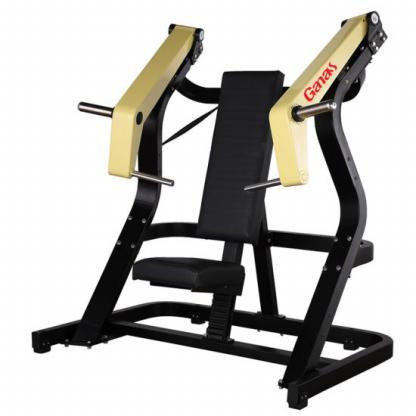Chest Press machine: (27, 9, 401, 410)
